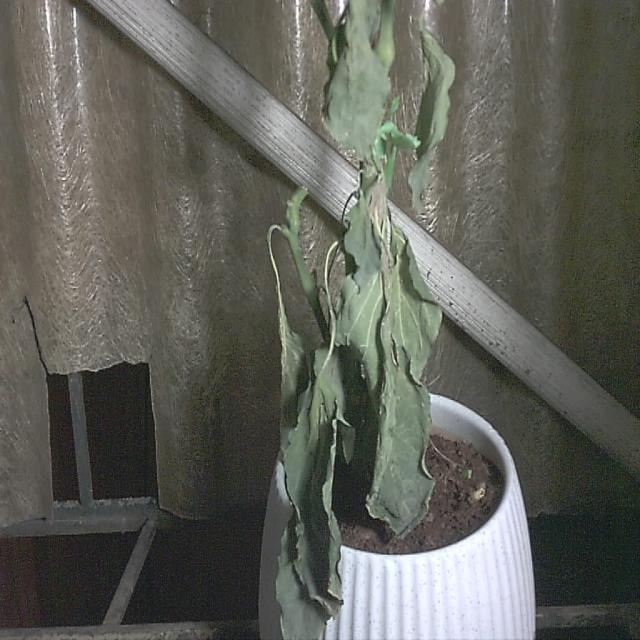Leaf: (274, 380, 344, 640), (366, 280, 434, 541), (321, 7, 390, 156)
